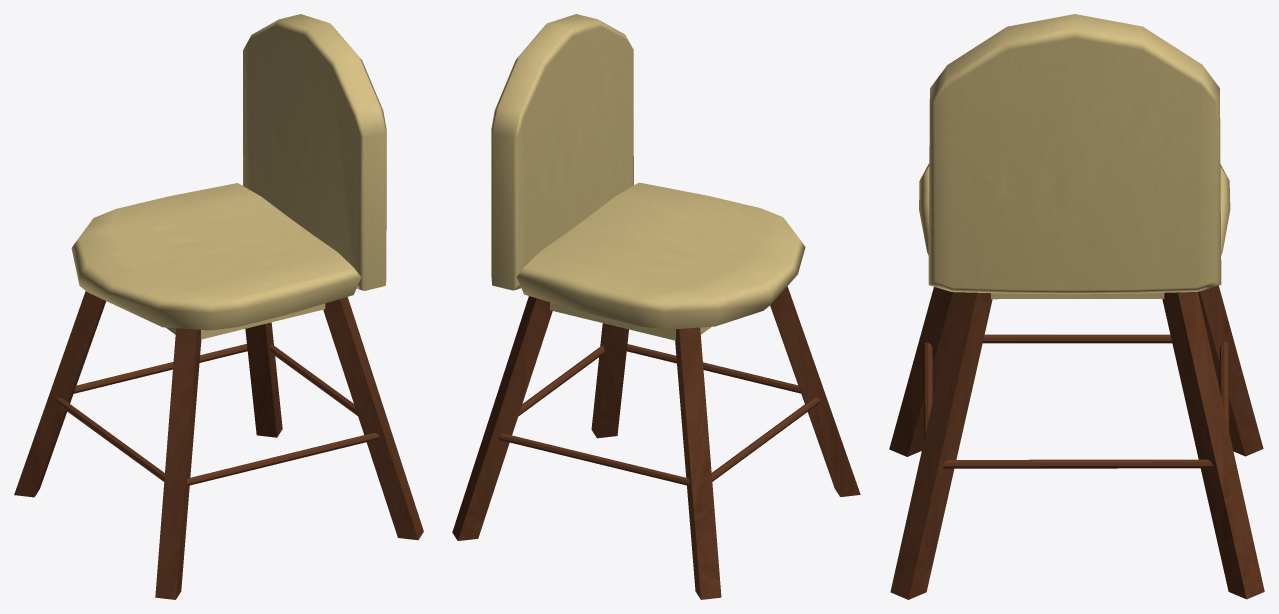
Rendered from Chair_2.fbx.
The picture shows the model from 3 angles, left to right: view 1: azimuth 30°, elevation 25°; view 2: azimuth 150°, elevation 25°; view 3: azimuth 270°, elevation 25°; orthographic projection. The views are drawn at different scales.
Visible parts, largest first — view 1: Chair_2; view 2: Chair_2; view 3: Chair_2.
Part boxes in pixels (x1,y1,x2,y2): Chair_2: [14, 14, 423, 599]; Chair_2: [452, 14, 860, 599]; Chair_2: [889, 14, 1264, 599].
Bounding box in the file's own units: 57.17 × 93.78 × 57.17.
